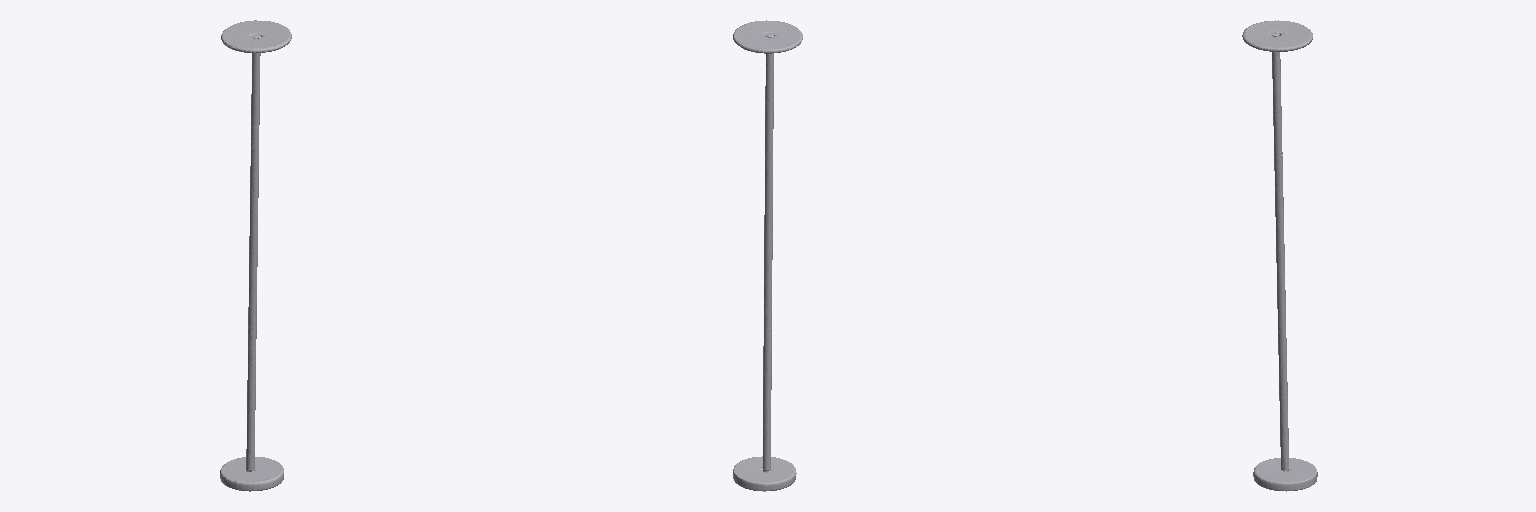
robot.urdf — pick_place_001_floorlamp:
<?xml version="1.0"?>
<robot name="pick_place_001_floorlamp"><link name="floorlamp">
  <inertial><origin xyz="0.00194427218222 0.0101081622858 -0.446416194"/><mass value="4"/><inertia ixx="1.45740200155" ixy="-7.89525058833e-06" ixz="-6.89947130608e-05" iyy="1.4570464367" iyz="0.0219900214861" izz="0.0198256311463"/></inertial>
  <visual><geometry><mesh filename="floorlamp_visual.obj" scale="1 1 1"/></geometry><material name="lamp"><color rgba="0.72 0.72 0.75 1"/></material></visual>
    <collision name="base"><geometry><mesh filename="floorlamp_base_collision.obj" scale="1 1 1"/></geometry></collision>
    <collision name="stem"><geometry><mesh filename="floorlamp_stem_collision.obj" scale="1 1 1"/></geometry></collision>
    <collision name="shade"><geometry><mesh filename="floorlamp_shade_collision.obj" scale="1 1 1"/></geometry></collision>
</link></robot>

--- What the picture shows (computed from the rendered views, not written in the file) ---
Views: 3 orthographic renders of the robot side by side, from view 1: azimuth 30°, elevation 25°; view 2: azimuth 150°, elevation 25°; view 3: azimuth 270°, elevation 25°.
Robot: pick_place_001_floorlamp — 1 links, 0 joints (none); root link floorlamp; default pose: all joints at 0.
Links seen in each view (by area): view 1: floorlamp; view 2: floorlamp; view 3: floorlamp.
Boxes of the visible links, x1,y1,x2,y2 form: floorlamp: (220,20,291,491); floorlamp: (733,20,802,491); floorlamp: (1242,20,1317,491).
Bounding box of the posed robot: 0.2269 × 0.2418 × 1.58 m (x, y, z).
Meshes: 1 distinct files referenced, 1 mesh visuals loaded (1 OBJ).
